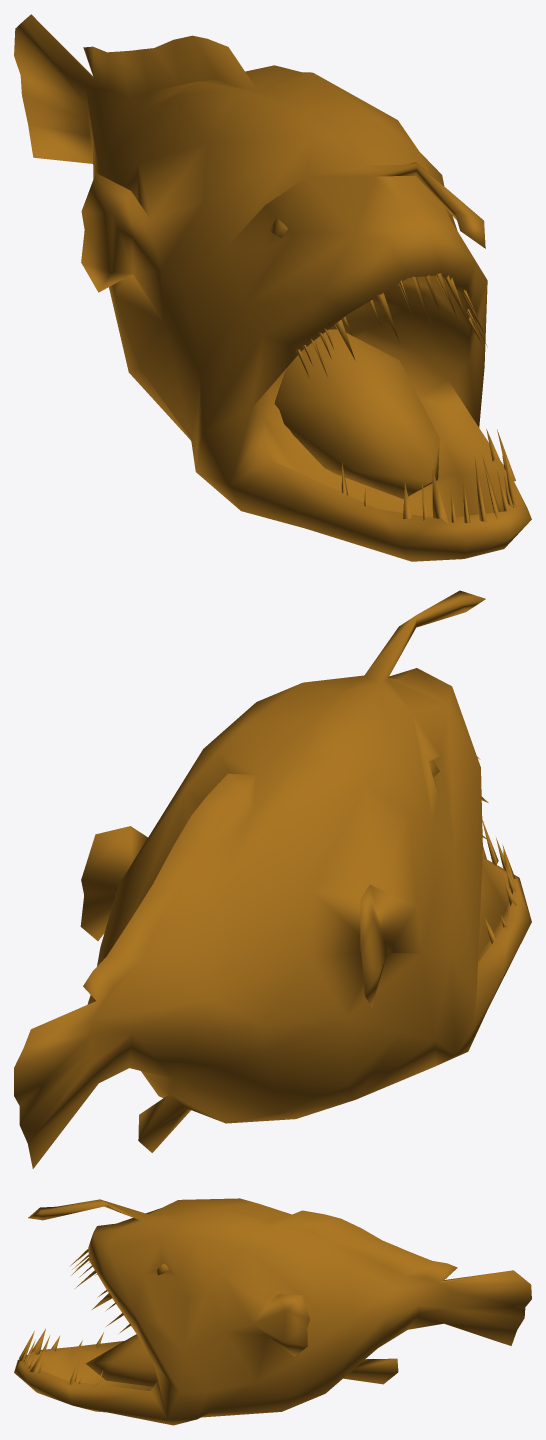
The model's file is angler.glb.
3 views of the same model, one above another, from view 1: azimuth 30°, elevation 25°; view 2: azimuth 150°, elevation 25°; view 3: azimuth 270°, elevation 25° (orthographic). The views are drawn at different scales.
Parts seen in each view (by area): view 1: Object_39; view 2: Object_39; view 3: Object_39.
Boxes of the visible parts, x1=… form: Object_39: x1=14, y1=14, x2=531, y2=561; Object_39: x1=14, y1=590, x2=531, y2=1168; Object_39: x1=14, y1=1198, x2=531, y2=1425.
Size of the model in its own units: 0.3399 by 0.4333 by 1.
